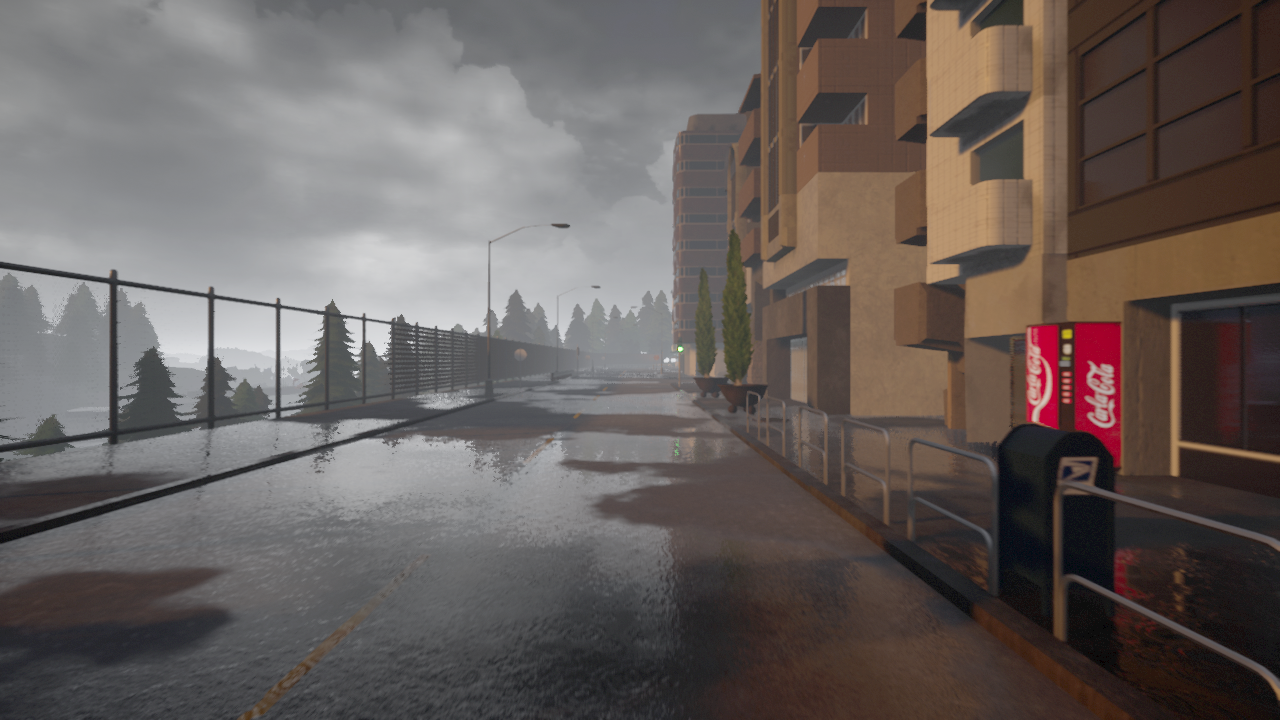green: (676, 337, 684, 353)
